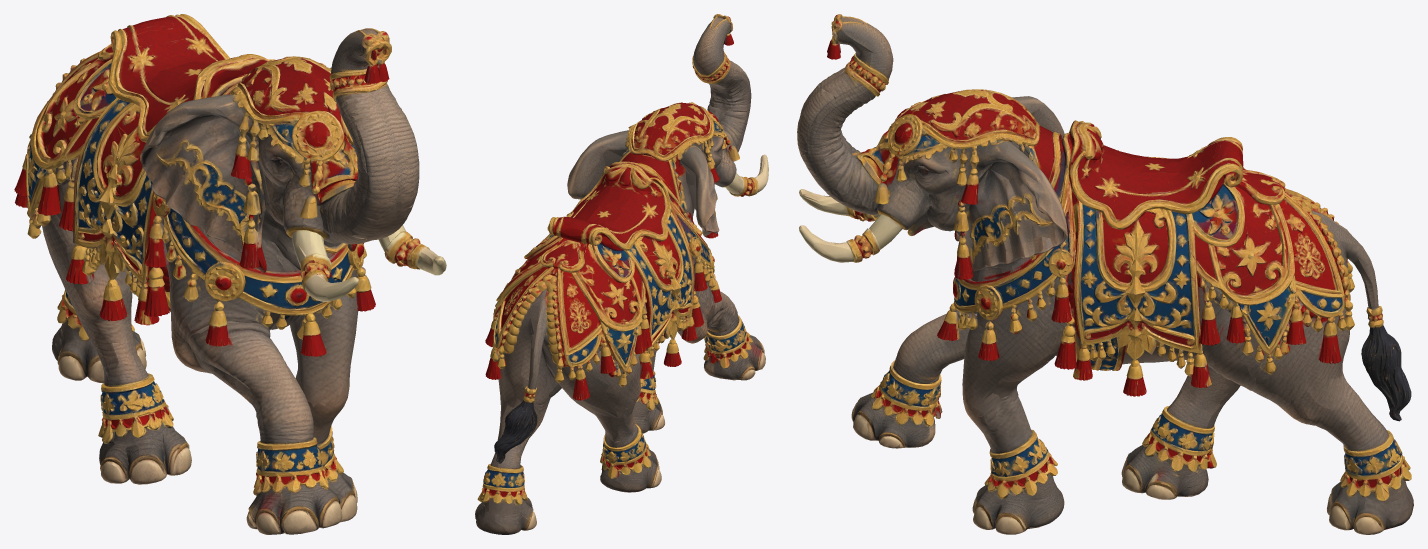
The model's file is elephant.glb.
The picture shows the model from 3 angles, left to right: view 1: azimuth 30°, elevation 25°; view 2: azimuth 150°, elevation 25°; view 3: azimuth 270°, elevation 25°; orthographic projection. The views are drawn at different scales.
Size of the model in its own units: 0.6831 by 1.66 by 1.89.
1 material, 1 textured.
